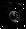Speed Limit -60-: (5, 6, 22, 24)
